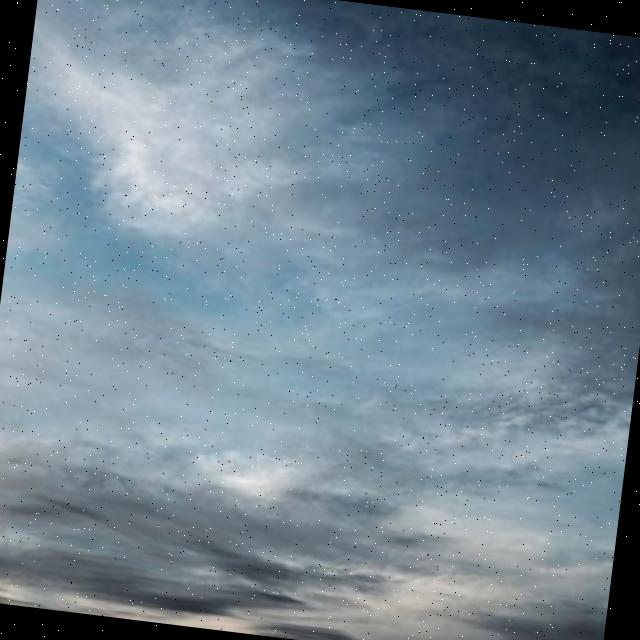As: (1, 1, 640, 607)
